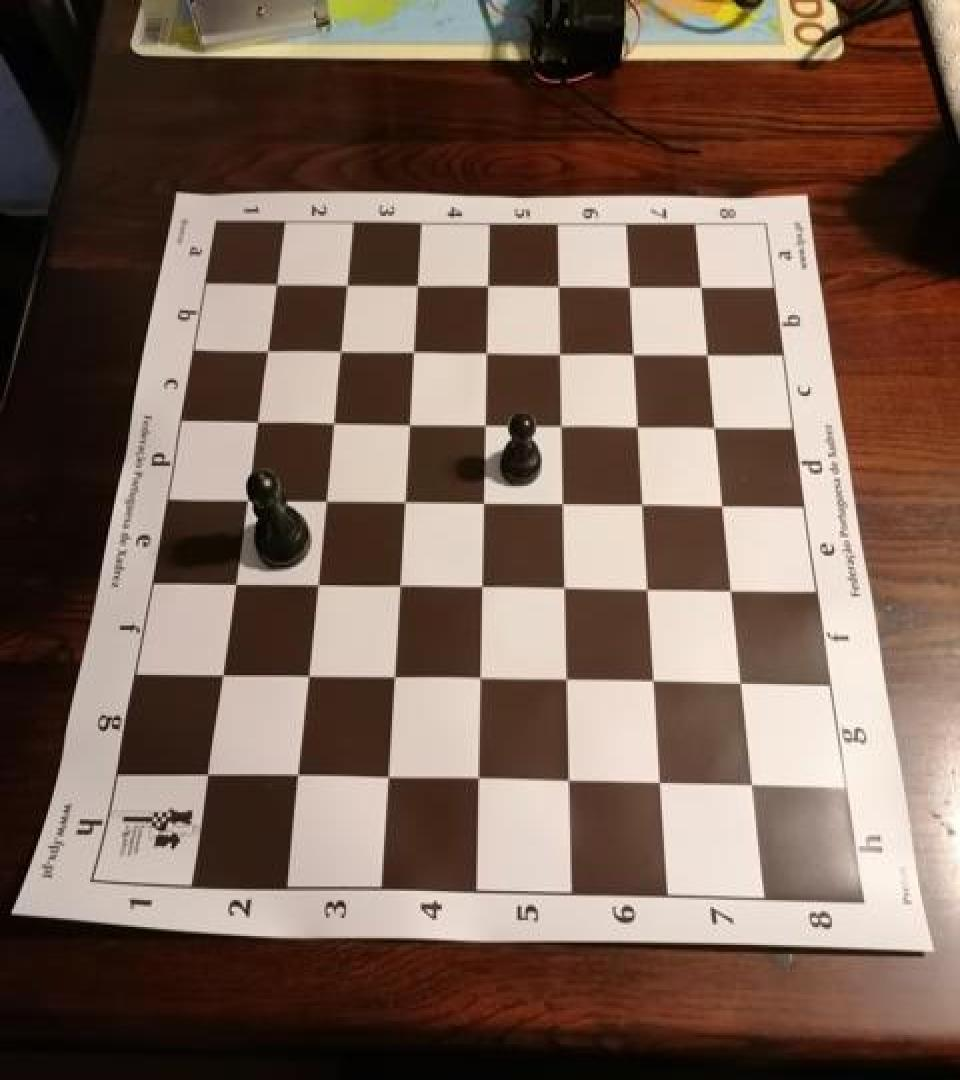xcorner: (717, 571, 749, 608), (550, 661, 582, 698), (201, 653, 233, 690), (738, 768, 770, 805), (685, 268, 717, 304), (471, 266, 503, 302), (400, 264, 432, 300), (329, 264, 361, 300), (259, 263, 291, 299), (692, 335, 724, 371), (618, 334, 650, 370), (543, 333, 575, 369), (469, 332, 501, 368), (395, 331, 427, 367), (322, 331, 354, 367), (249, 330, 281, 366), (700, 407, 732, 443), (622, 406, 654, 442), (545, 405, 577, 441), (468, 404, 500, 440), (391, 403, 423, 439), (315, 402, 347, 438), (239, 400, 271, 436), (708, 486, 740, 522), (627, 485, 659, 521), (546, 482, 578, 518), (466, 482, 498, 518), (386, 480, 418, 516), (306, 479, 338, 515), (227, 478, 259, 514), (632, 570, 664, 606), (548, 568, 580, 604), (464, 567, 496, 603), (380, 565, 412, 601), (297, 564, 329, 600), (215, 562, 247, 598), (727, 666, 759, 702), (638, 664, 670, 700), (462, 659, 494, 695), (374, 657, 406, 693), (288, 655, 320, 691), (644, 766, 676, 802), (552, 764, 584, 800), (460, 760, 492, 796), (368, 758, 400, 794), (277, 756, 309, 792), (187, 754, 219, 790), (613, 267, 645, 302), (542, 267, 574, 302)
